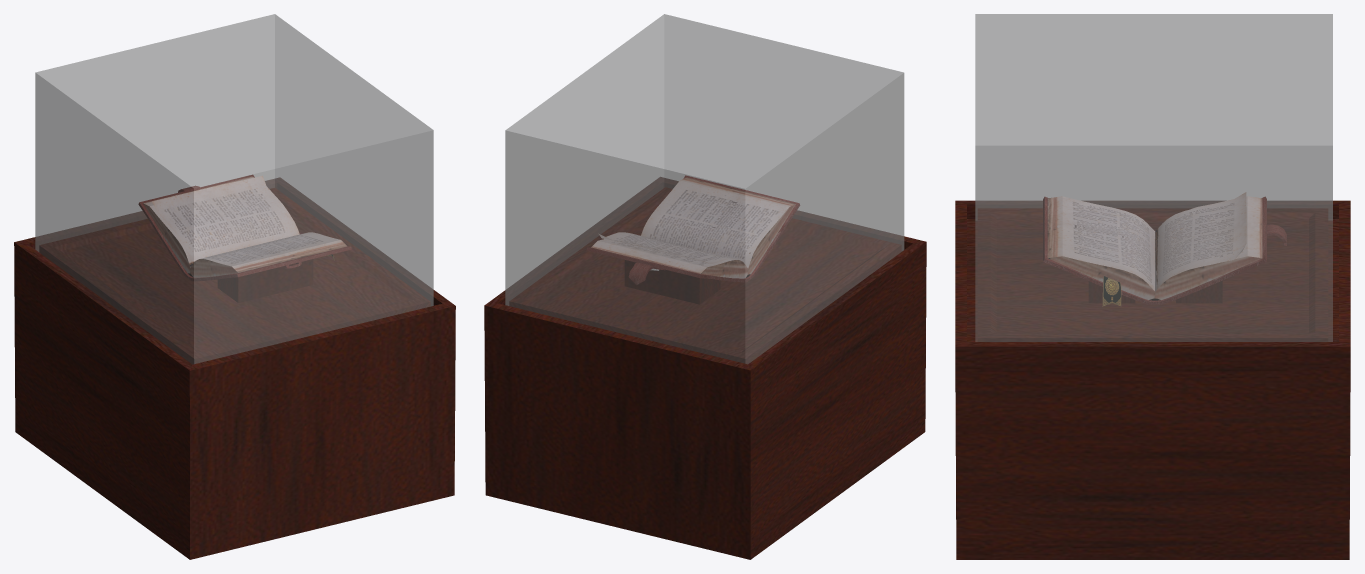
The model's file is BIBLE.fbx.
3 renders of one model, left to right at view 1: azimuth 30°, elevation 25°; view 2: azimuth 150°, elevation 25°; view 3: azimuth 270°, elevation 25°, orthographic. The views are drawn at different scales.
Parts seen in each view (by area): view 1: pCube1, pCube2, bible, polySurface5, pCube8; view 2: pCube1, pCube2, polySurface5, pCube9, bible; view 3: pCube1, pCube2, polySurface5, bible, pCube9, polySurface6.
Boxes of the visible parts, box(x1,y1,x2,y2) form: pCube1: box(14, 177, 455, 559); pCube2: box(35, 14, 433, 364); bible: box(152, 175, 299, 264); polySurface5: box(138, 174, 351, 281); pCube8: box(217, 259, 313, 302); pCube1: box(484, 177, 926, 559); pCube2: box(505, 14, 904, 364); polySurface5: box(587, 175, 799, 282); pCube9: box(624, 260, 720, 304); bible: box(598, 232, 734, 263); pCube1: box(955, 200, 1350, 559); pCube2: box(975, 14, 1332, 341); polySurface5: box(1043, 196, 1266, 304); bible: box(1155, 192, 1246, 291); pCube9: box(1176, 281, 1222, 303); polySurface6: box(1102, 276, 1121, 306).
Size of the model in its own units: 7.07 by 9.2 by 8.09.
3 materials, 1 textured.
